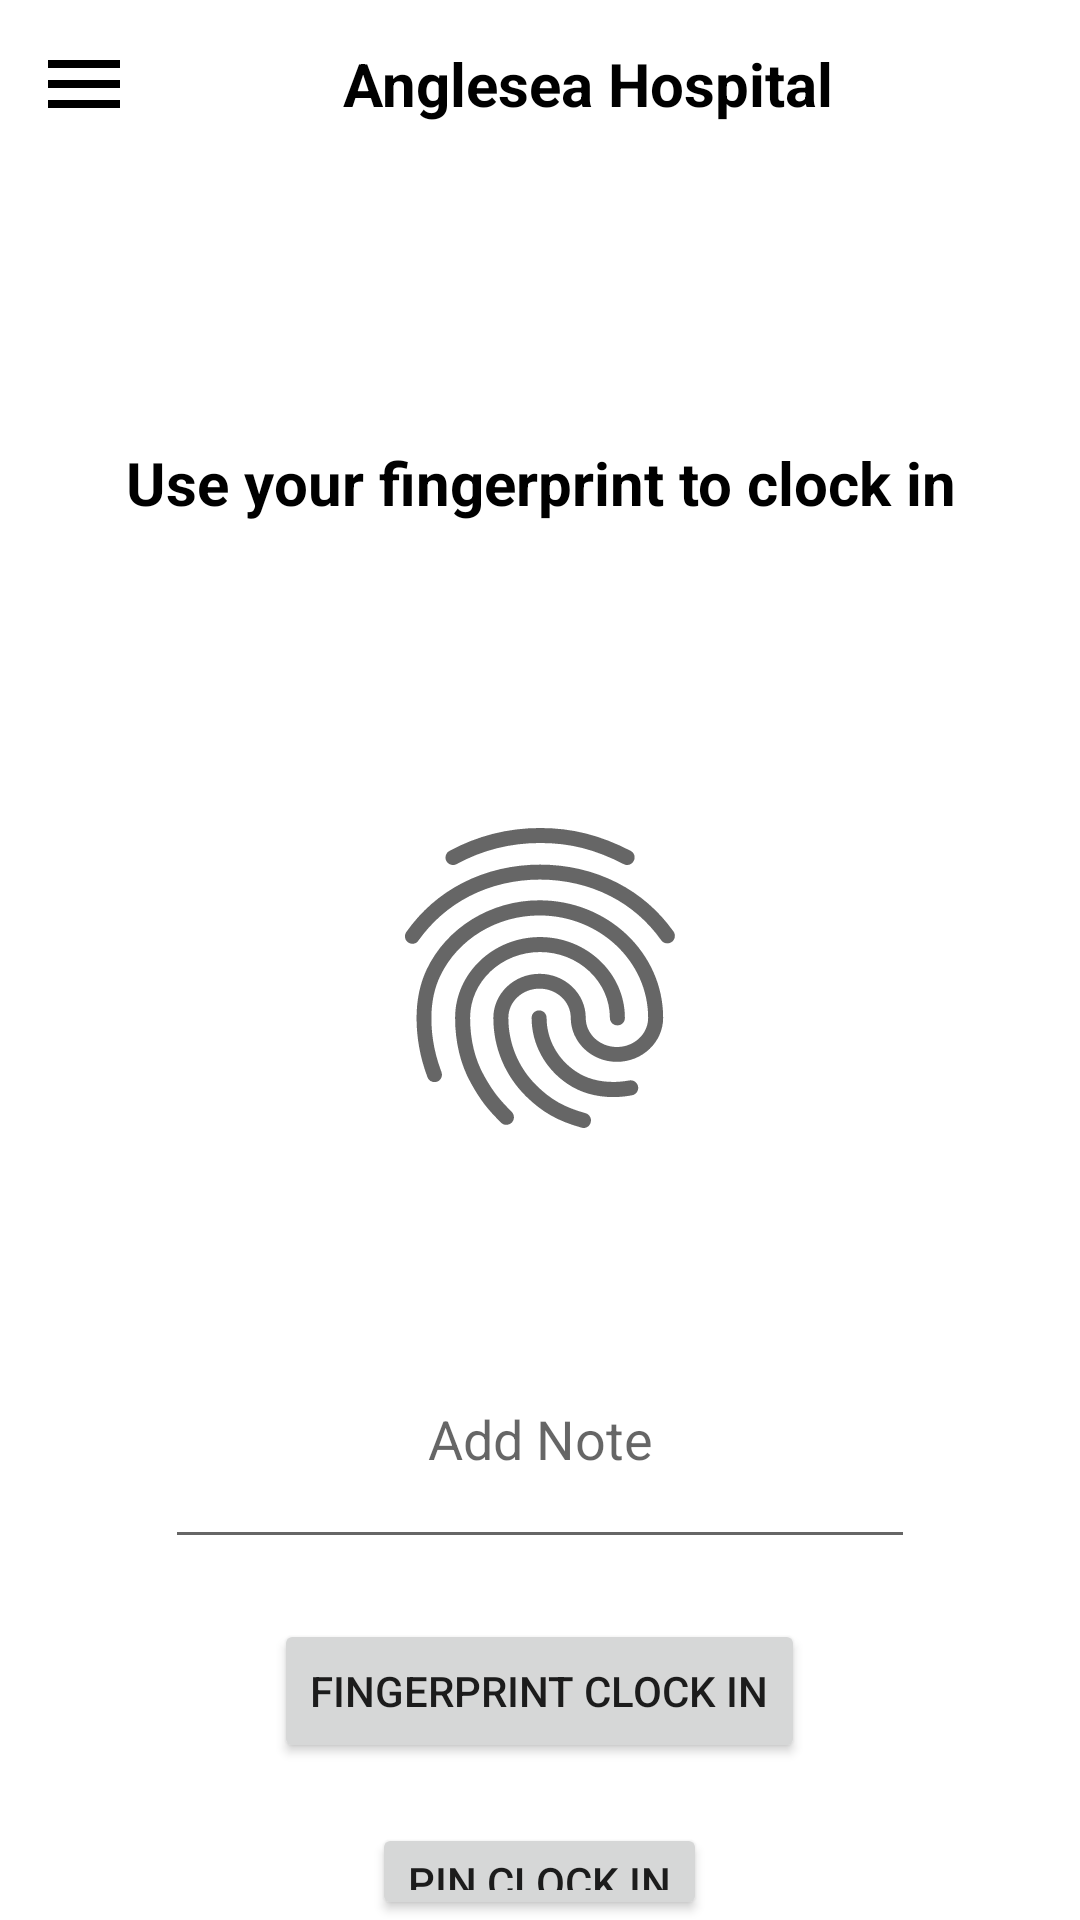

Named icons in this screenshot (1080px×1920px) and their centers, [x,y]:
menu: [84,84]
